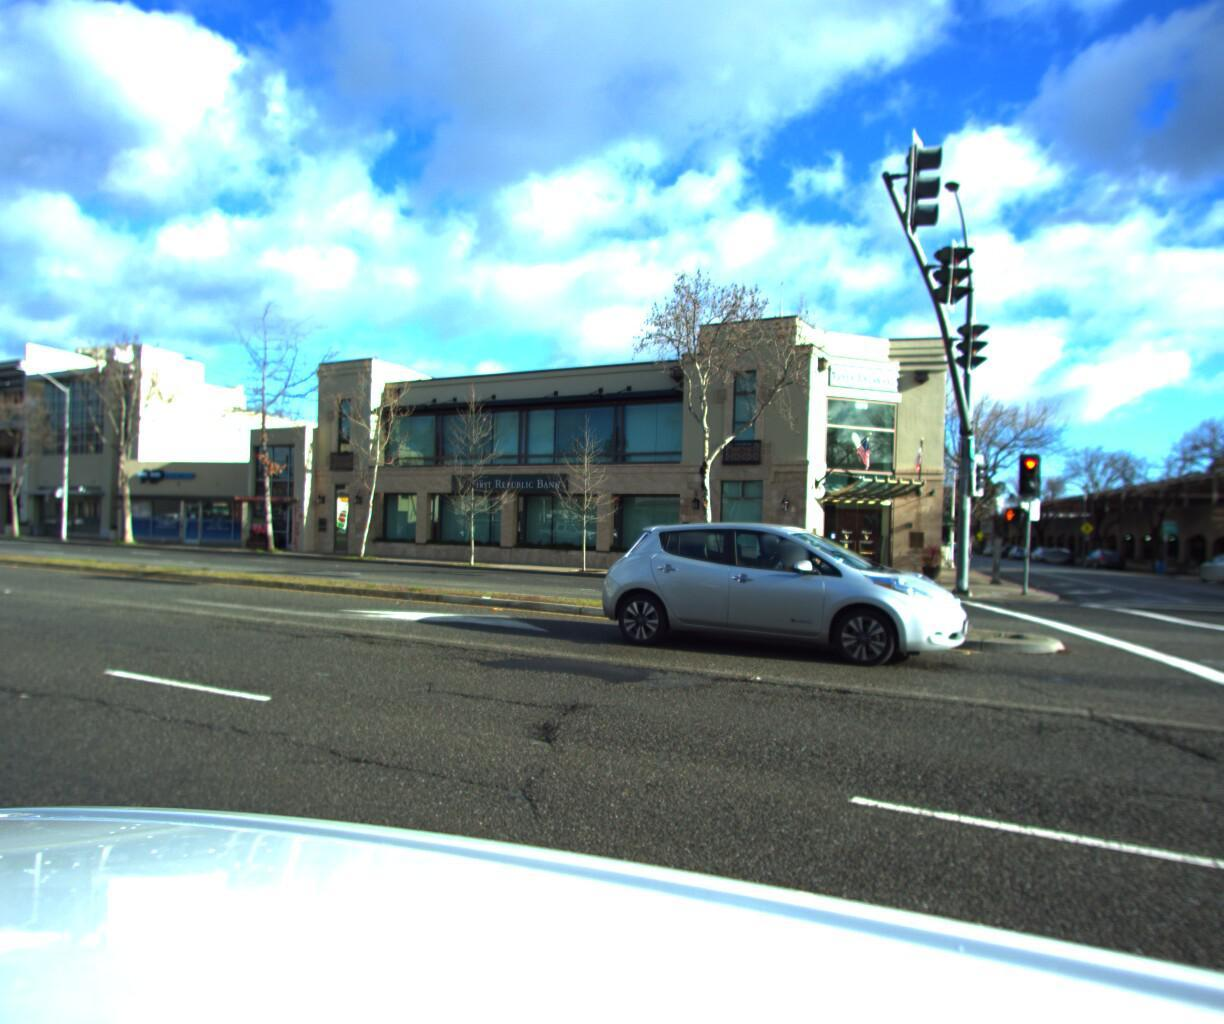car: (587, 516, 984, 679), (1187, 544, 1224, 584), (1076, 538, 1127, 564), (1035, 536, 1074, 557), (1021, 536, 1057, 554)
